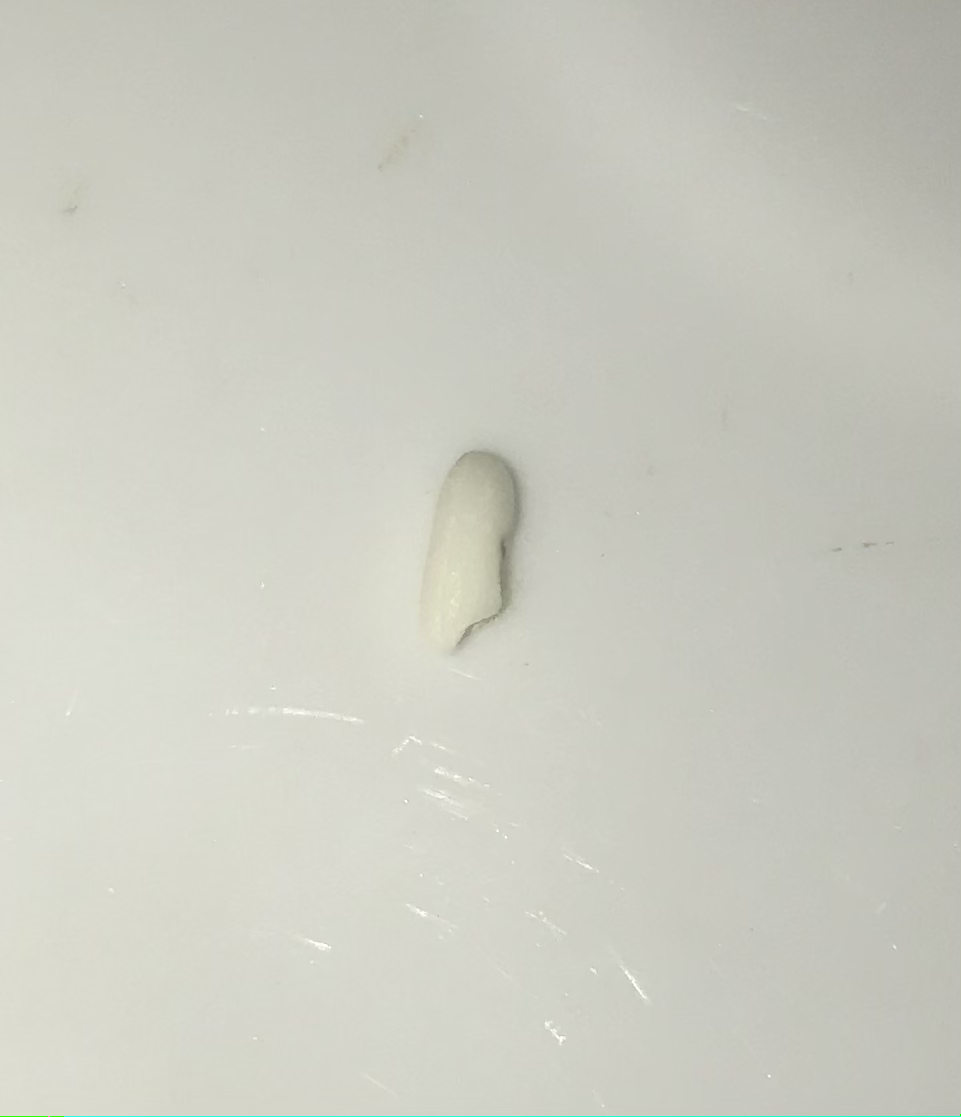Gao Nep Sap: (402, 433, 537, 677)
